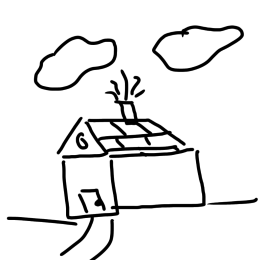clouds: (150, 7, 255, 77), (13, 28, 119, 93)
door: (71, 183, 112, 218)
roof: (51, 113, 208, 160)
smoking_chimney: (100, 67, 149, 122)
wall: (110, 145, 210, 215)
